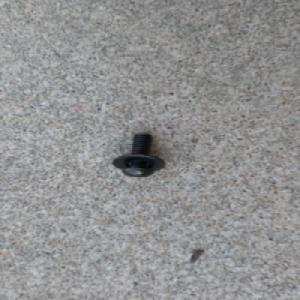BoltWasher: (111, 131, 167, 178)
